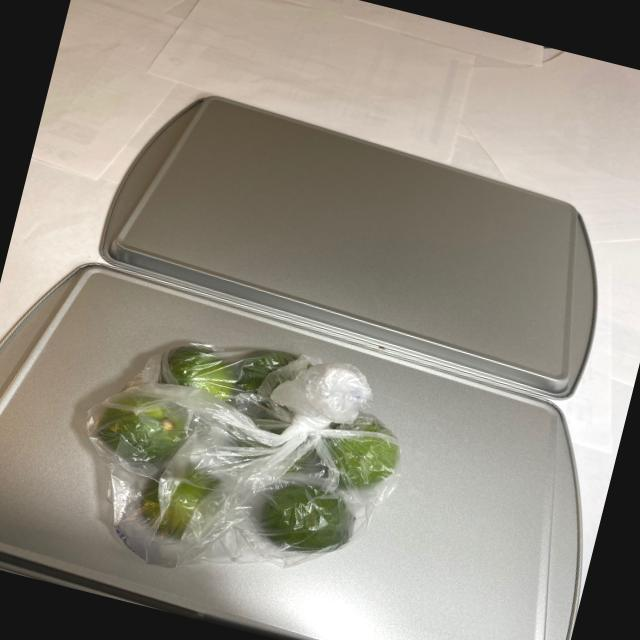lemon: (68, 308, 414, 590)
